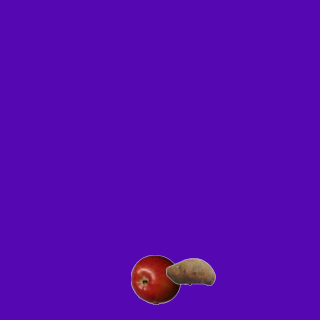Apple Braeburn: (130, 254, 180, 304)
Potato Sweet: (165, 246, 215, 296)
